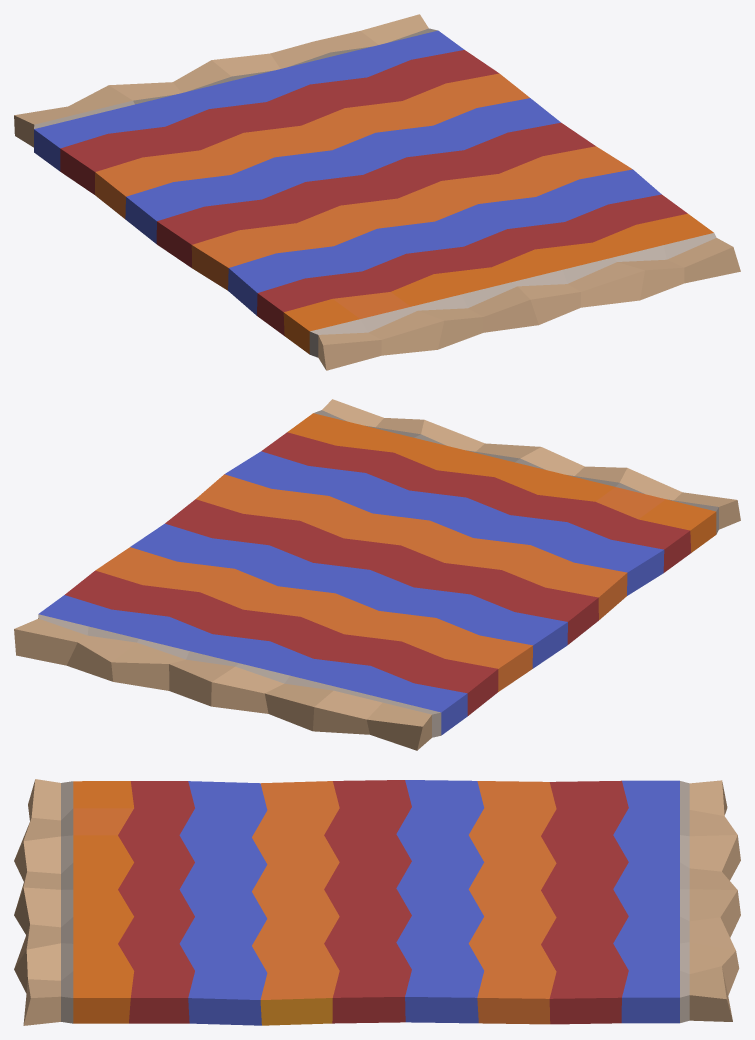
The model's file is carpet_stripes.fbx.
The picture shows the model from 3 angles, top to bottom: view 1: azimuth 30°, elevation 25°; view 2: azimuth 150°, elevation 25°; view 3: azimuth 270°, elevation 25°; orthographic projection. The views are drawn at different scales.
Parts seen in each view (by area): view 1: carpet_stripes; view 2: carpet_stripes; view 3: carpet_stripes.
Boxes of the visible parts, left/top/right/bottom form: carpet_stripes: left=14, top=14, right=740, bottom=370; carpet_stripes: left=14, top=399, right=740, bottom=750; carpet_stripes: left=14, top=779, right=740, bottom=1025.
Bounding box in the file's own units: 1.45 × 0.0796 × 2.01.
